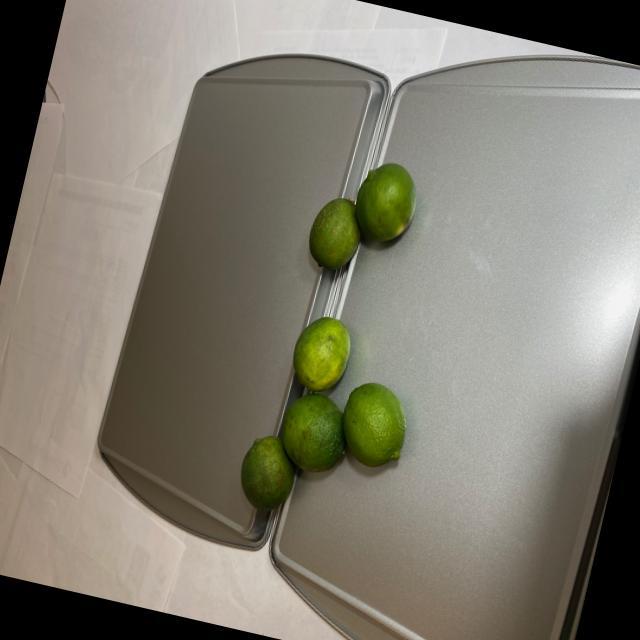lemon: (230, 300, 433, 546), (294, 137, 436, 302)
